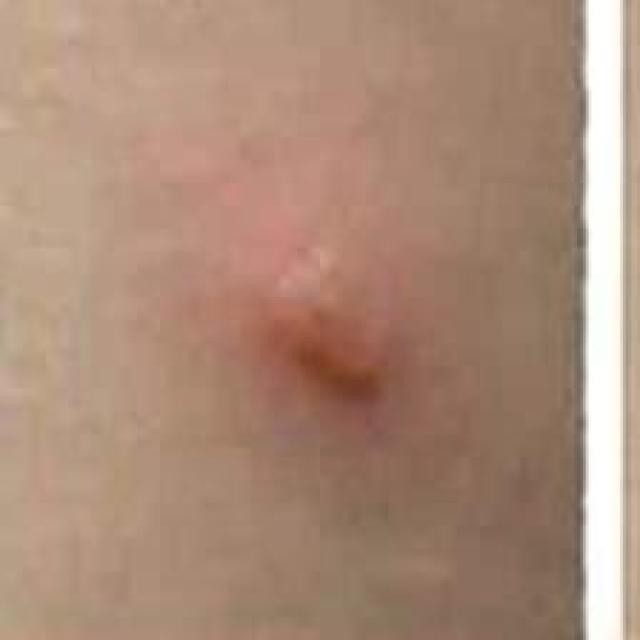others: (0, 13, 568, 640)
